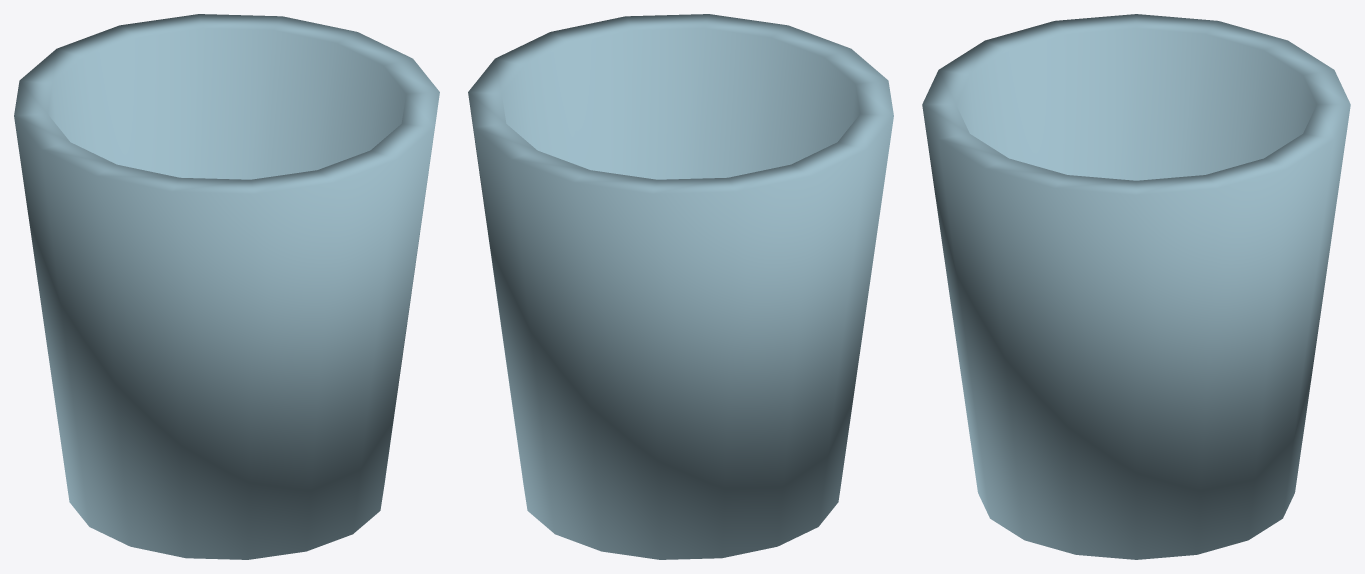
File: bicchiere.fbx
The picture shows the model from 3 angles, left to right: view 1: azimuth 30°, elevation 25°; view 2: azimuth 150°, elevation 25°; view 3: azimuth 270°, elevation 25°; orthographic projection.
Visible parts, largest first — view 1: Cylinder; view 2: Cylinder; view 3: Cylinder.
Part boxes in pixels (left/top/right/bottom): Cylinder: left=14, top=14, right=439, bottom=559; Cylinder: left=468, top=14, right=893, bottom=559; Cylinder: left=922, top=14, right=1350, bottom=559.
Bounding box in the file's own units: 20 × 20 × 20.
